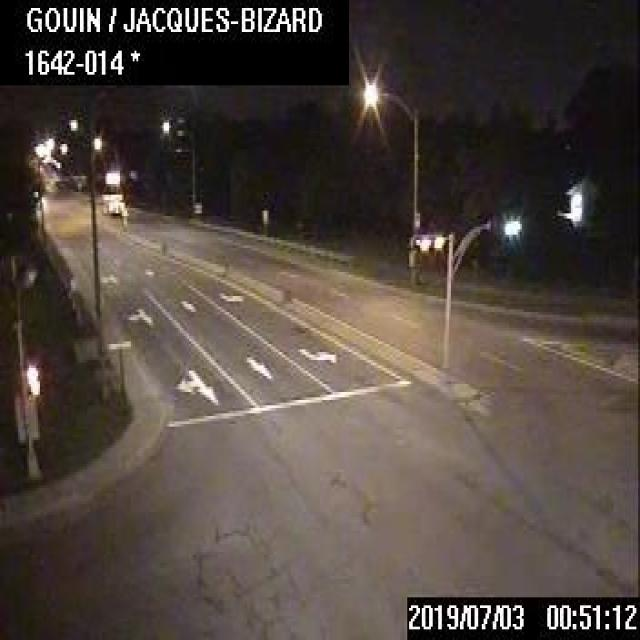vehicle: (100, 192, 123, 212)
